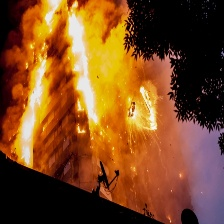fire: (64, 9, 105, 136), (16, 51, 48, 167), (126, 88, 160, 132), (44, 1, 61, 28)
smoke: (1, 1, 31, 116)
